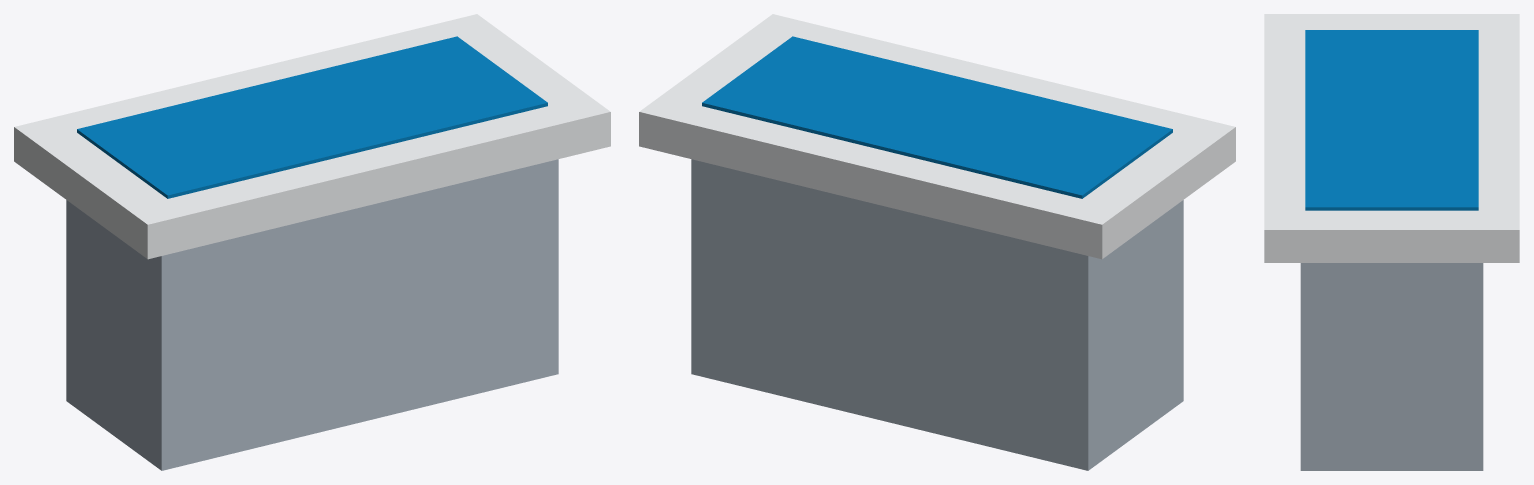
File: term-supply-floor-register.glb
3 renders of one model, left to right at view 1: azimuth 30°, elevation 25°; view 2: azimuth 150°, elevation 25°; view 3: azimuth 270°, elevation 25°, orthographic. The views are drawn at different scales.
Visible parts, largest first — view 1: hvac-terminal-supply-floor-register; view 2: hvac-terminal-supply-floor-register; view 3: hvac-terminal-supply-floor-register.
Boxes of the visible parts, bbox=[...] form: hvac-terminal-supply-floor-register: bbox=[14, 14, 610, 470]; hvac-terminal-supply-floor-register: bbox=[639, 14, 1235, 470]; hvac-terminal-supply-floor-register: bbox=[1264, 14, 1519, 470].
Size of the model in its own units: 0.28 by 0.157 by 0.14.
